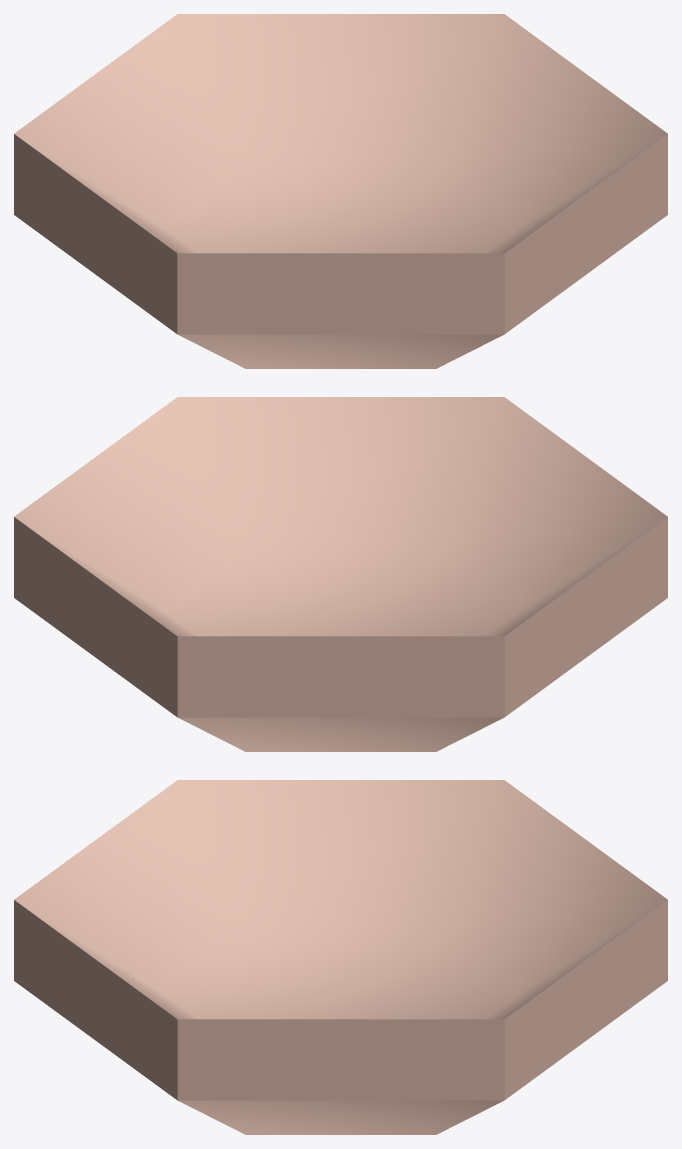
The model's file is prato_pequeno_pacote.glb.
The picture shows the model from 3 angles, top to bottom: view 1: azimuth 30°, elevation 25°; view 2: azimuth 150°, elevation 25°; view 3: azimuth 270°, elevation 25°; orthographic projection.
Visible parts, largest first — view 1: prato_pequeno_pacote; view 2: prato_pequeno_pacote; view 3: prato_pequeno_pacote.
Boxes of the visible parts, box(x1,y1,x2,y2) form: prato_pequeno_pacote: box(14, 14, 667, 368); prato_pequeno_pacote: box(14, 397, 667, 751); prato_pequeno_pacote: box(14, 780, 667, 1134).
Bounding box in the file's own units: 0.1772 × 0.0571 × 0.2046.
1 material, 1 textured.
